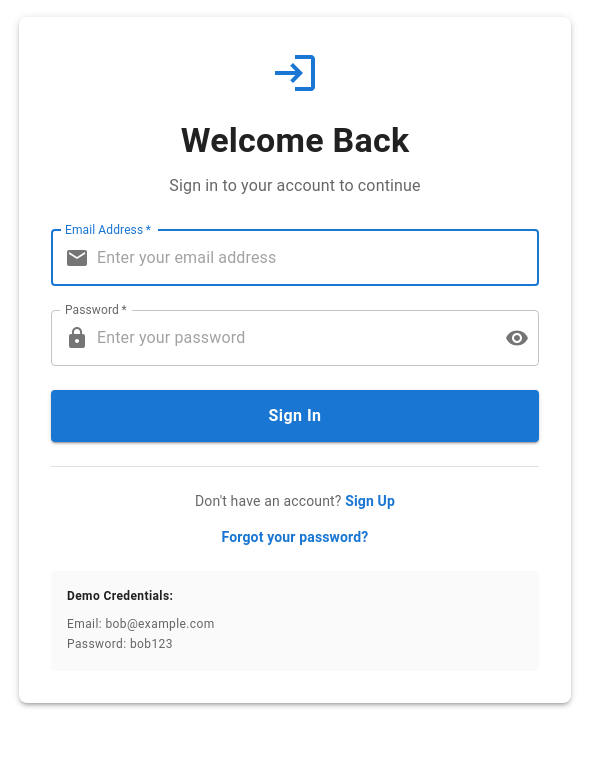
Test: LoginPage › shows validation error for invalid email format
Type "invalid-email" into the field labelled "Email Address *" at (318, 258), box [97,230,539,286]
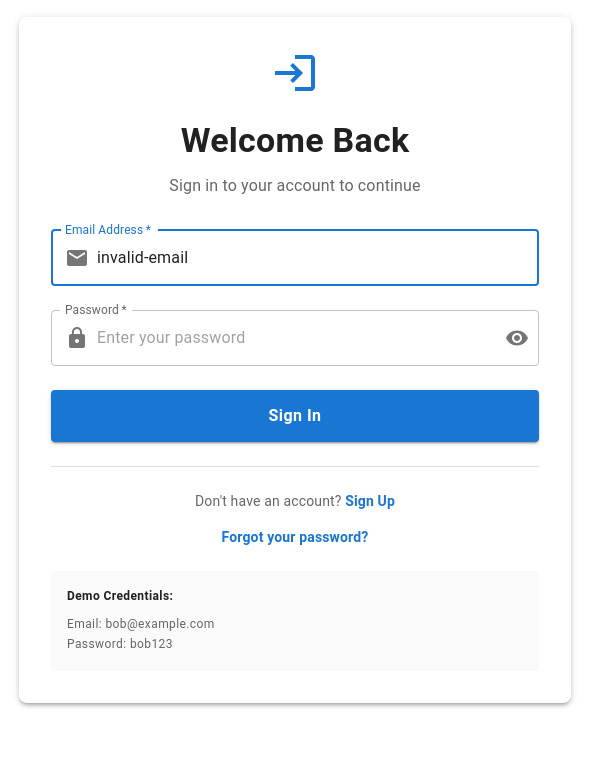
Click the button "Sign In" at (295, 416), box [51,390,539,442]
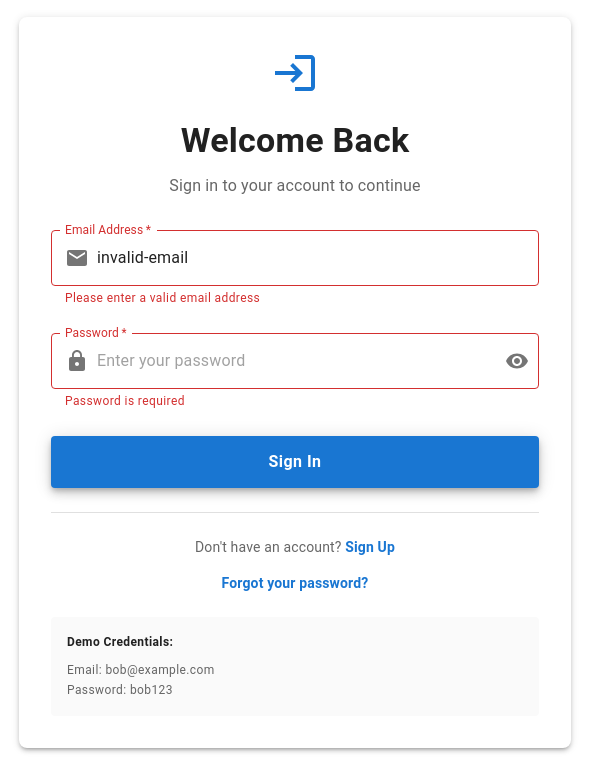
Check: the text "Please enter a valid email address" is shown, box [65,291,260,305]
